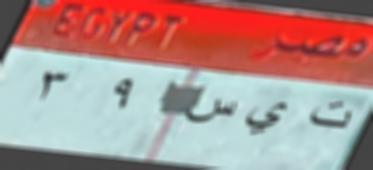3: (34, 62, 72, 104)
9: (103, 74, 136, 119)
seen: (184, 88, 239, 134)
taa: (306, 94, 354, 136)
yaa: (243, 96, 290, 140)
